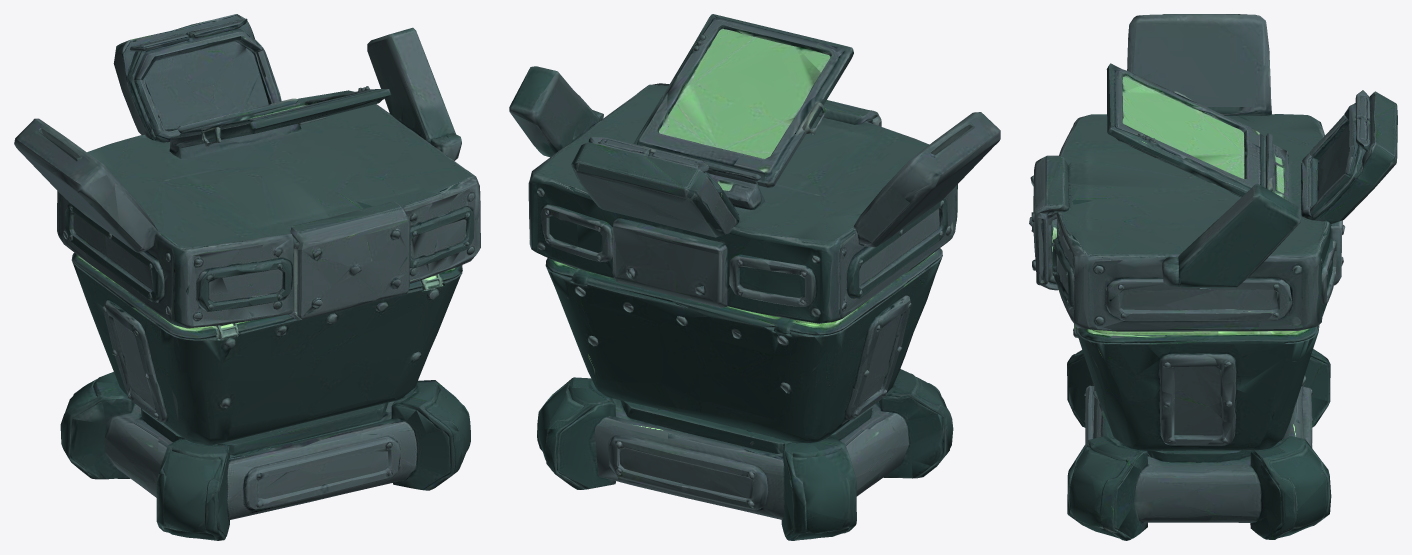
Rendered from cow-hopper.glb.
The picture shows the model from 3 angles, left to right: view 1: azimuth 30°, elevation 25°; view 2: azimuth 150°, elevation 25°; view 3: azimuth 270°, elevation 25°; orthographic projection. The views are drawn at different scales.
Bounding box in the file's own units: 1.9 × 1.79 × 1.56.
Materials: 1 (1 with a texture image).
